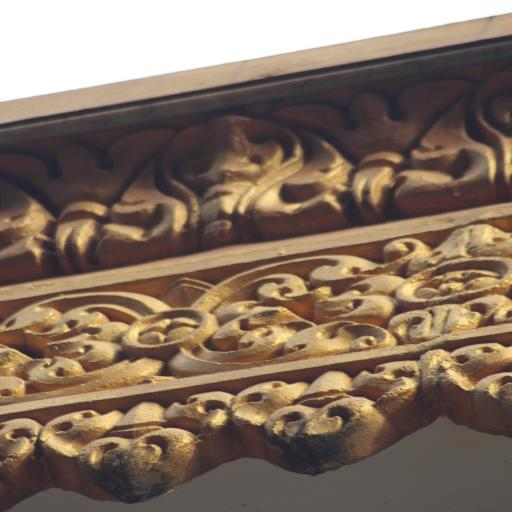hoa: (10, 251, 336, 386), (352, 240, 512, 333)
la: (94, 118, 354, 239), (52, 391, 230, 499), (352, 92, 512, 206), (225, 380, 428, 467), (0, 134, 102, 272), (412, 348, 512, 419)
